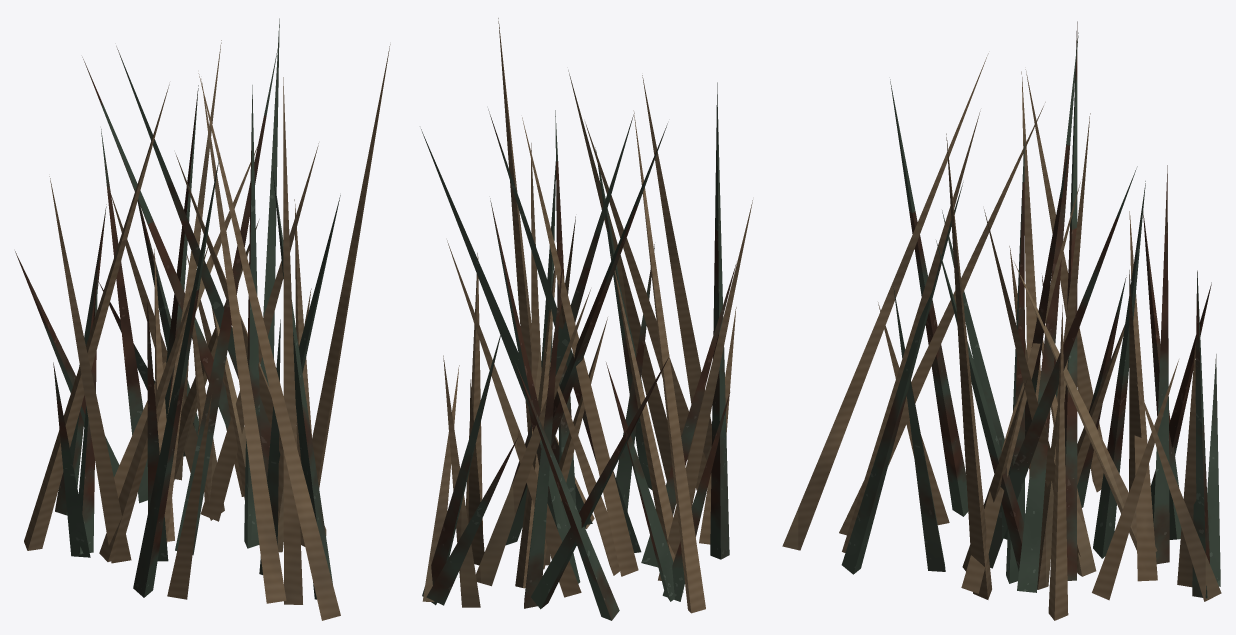
Rendered from NT03_tall_grass_clump_v4.glb.
3 views of the same model, side by side, from view 1: azimuth 30°, elevation 25°; view 2: azimuth 150°, elevation 25°; view 3: azimuth 270°, elevation 25° (orthographic). The views are drawn at different scales.
Visible parts, largest first — view 1: NT03_tall_grass_clump_v4; view 2: NT03_tall_grass_clump_v4; view 3: NT03_tall_grass_clump_v4.
Boxes of the visible parts, x1,y1,x2,y2 form: NT03_tall_grass_clump_v4: (15,18,390,620); NT03_tall_grass_clump_v4: (421,18,752,620); NT03_tall_grass_clump_v4: (782,21,1221,620).
Size of the model in its own units: 0.6314 by 1 by 0.7953.
2 materials, 2 textured.
